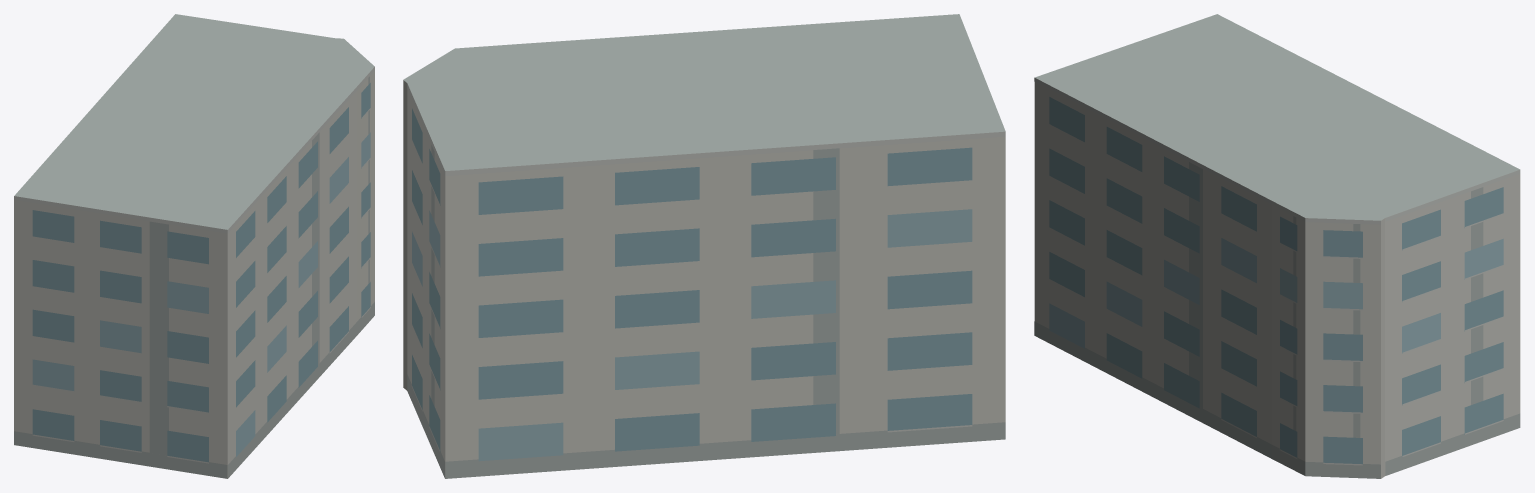
Rendered from survey-upis-32849733.glb.
3 views of the same model, side by side, from view 1: azimuth 30°, elevation 25°; view 2: azimuth 150°, elevation 25°; view 3: azimuth 270°, elevation 25° (orthographic). The views are drawn at different scales.
Parts seen in each view (by area): view 1: survey-upis-32849733.tmp; view 2: survey-upis-32849733.tmp; view 3: survey-upis-32849733.tmp.
Boxes of the visible parts, x1=… form: survey-upis-32849733.tmp: x1=14, y1=14, x2=374, y2=478; survey-upis-32849733.tmp: x1=403, y1=14, x2=1005, y2=478; survey-upis-32849733.tmp: x1=1034, y1=14, x2=1520, y2=478.
Bounding box in the file's own units: 26.2 × 15.25 × 26.02.
